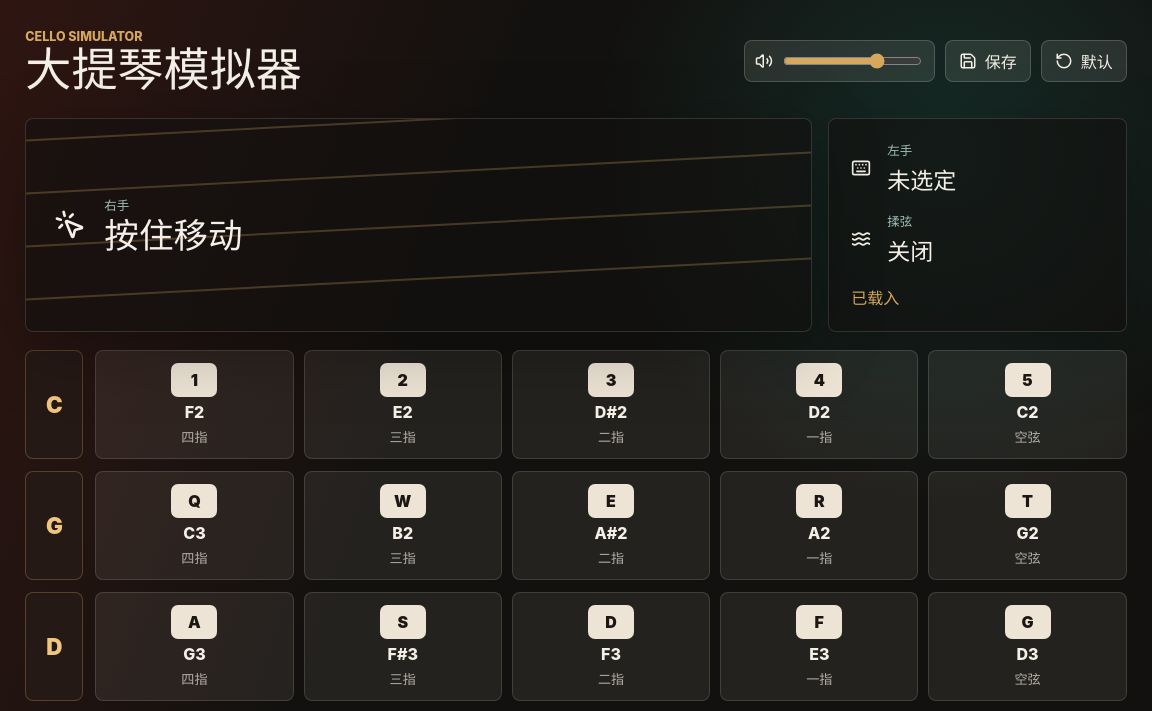
Scenario: App › rejects duplicate key bindings
Click the button titled "修改 C2 键位" at (1028, 404), box [928,350,1127,459]
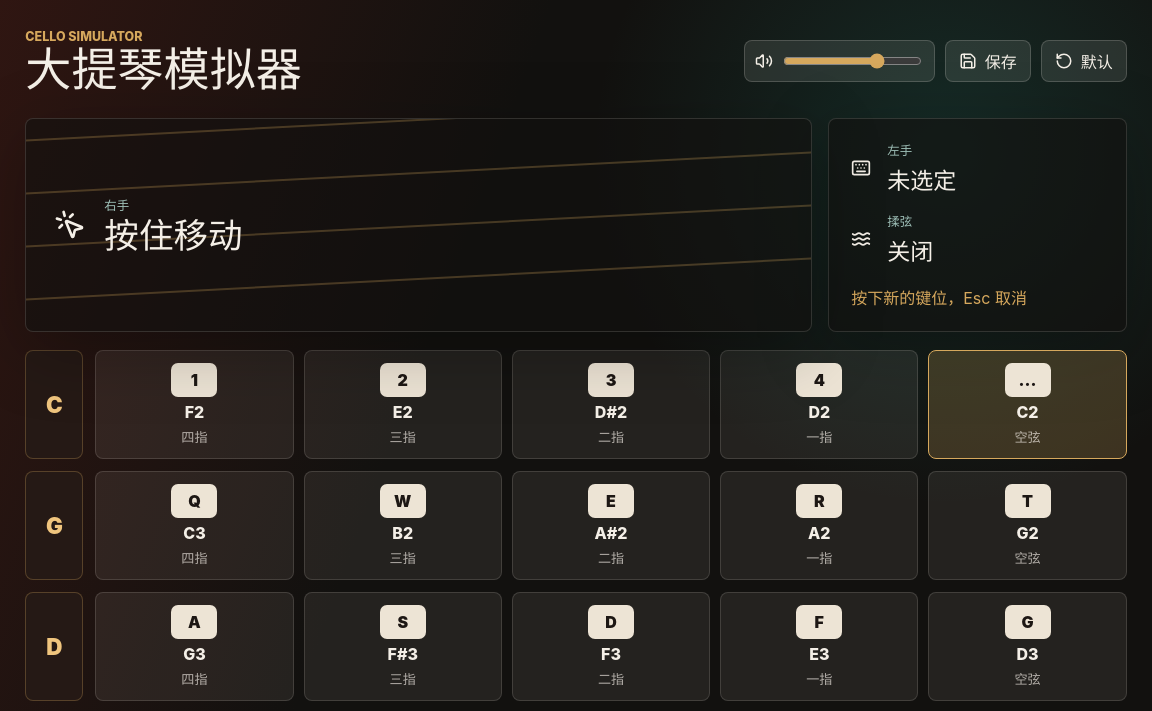
Press 4
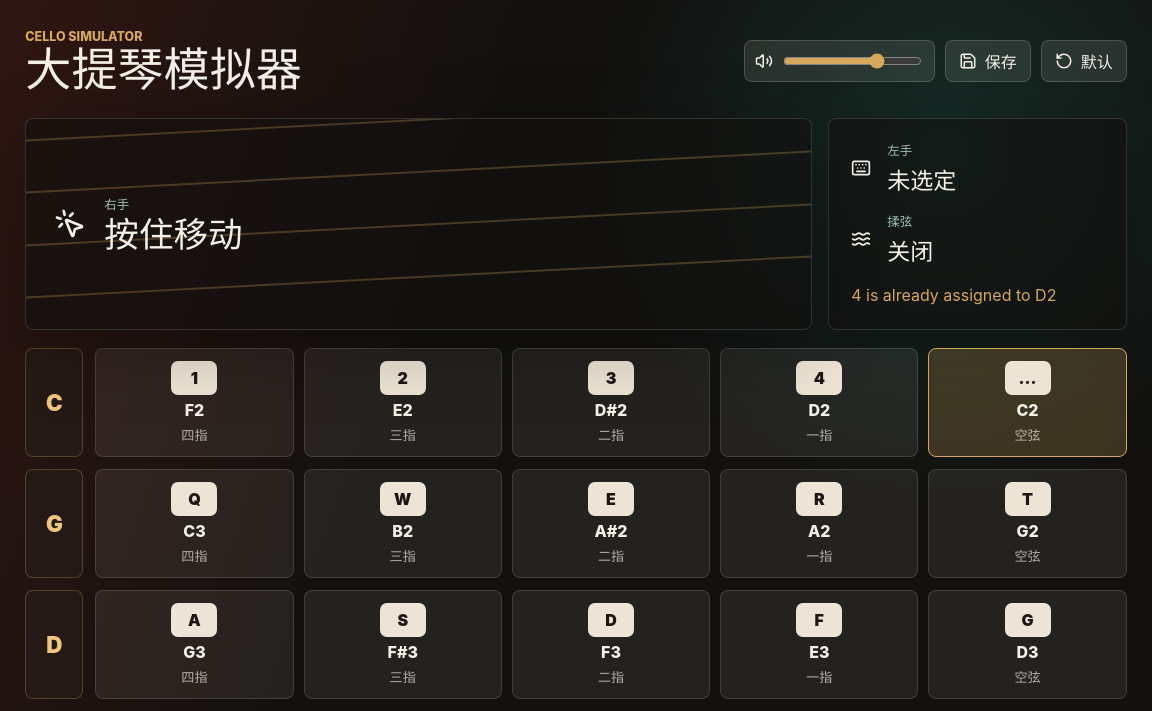
Check: the text "..." is shown, box [1004,361,1050,395]
Check: the text "4 is already assigned to D2" is shown, box [851,285,1056,305]
